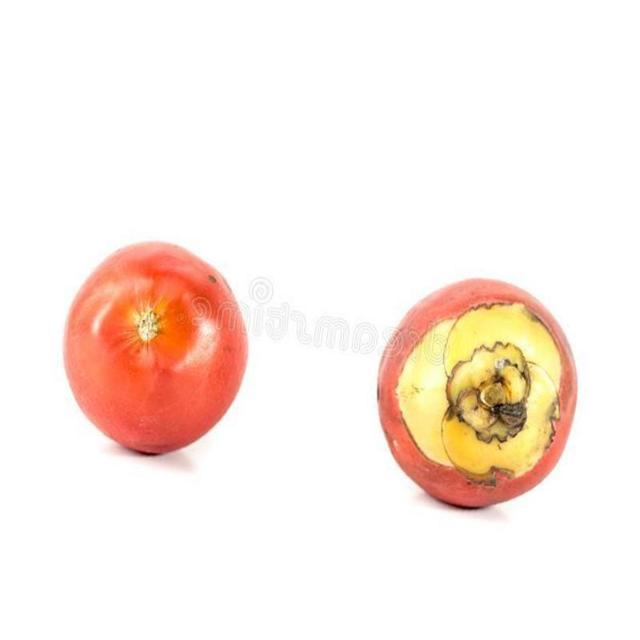good: (375, 278, 579, 511), (61, 241, 252, 458)
